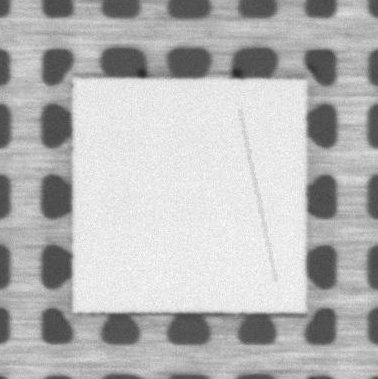DIE_CRACK: (239, 110, 275, 282)
